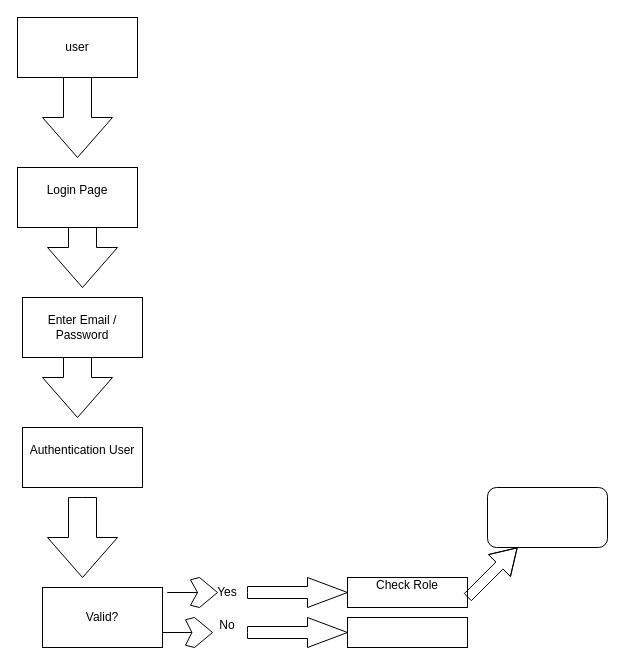
Some shapes in this 625 by 665 pixel diagram are drawn without their labels. The centre of each missing label's shape, as x and y in pixels:
"Role-Based Dashboard" belongs at (x=547, y=517).
"Show Error" belongs at (x=407, y=632).
